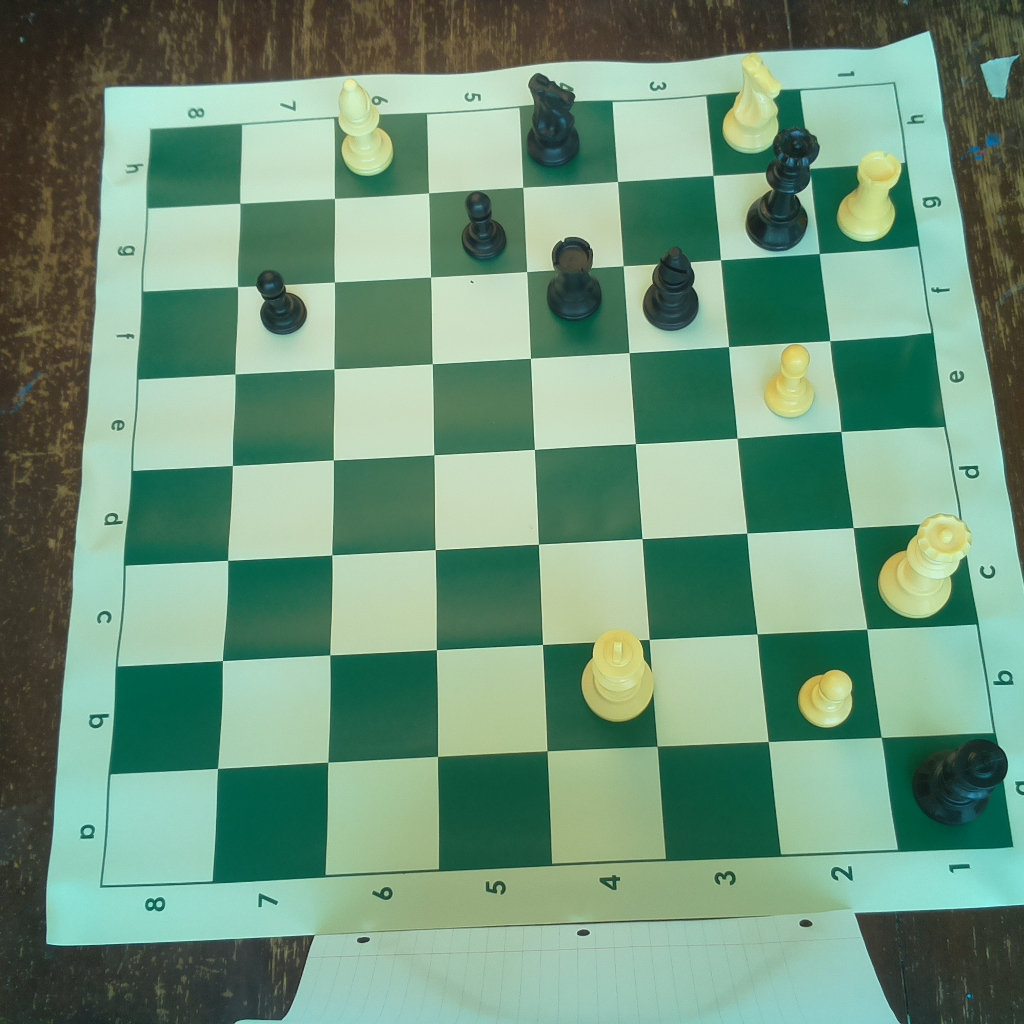black_bishop: (640, 244, 707, 334)
black_king: (911, 735, 1010, 826)
black_knight: (519, 70, 588, 170)
black_pawn: (457, 187, 514, 262), (254, 265, 314, 336)
black_queen: (744, 127, 824, 254)
black_rook: (544, 226, 611, 325)
file_a: (99, 734, 1014, 887)
file_b: (110, 623, 997, 779)
file_c: (114, 525, 979, 669)
file_d: (124, 427, 966, 564)
file_e: (134, 335, 944, 470)
file_f: (138, 245, 931, 380)
file_g: (138, 162, 918, 291)
file_h: (145, 82, 906, 209)
outline: (101, 79, 1015, 888)
rank_1: (801, 82, 1015, 853)
rank_2: (707, 90, 898, 854)
rank_3: (614, 97, 780, 860)
rank_4: (520, 101, 667, 861)
rank_5: (427, 105, 555, 873)
rank_6: (323, 114, 444, 874)
rank_7: (211, 118, 336, 882)
rank_8: (102, 125, 242, 886)
white_bishop: (331, 78, 398, 178)
white_king: (579, 625, 658, 730)
white_knight: (718, 51, 783, 156)
white_pawn: (762, 340, 821, 418), (794, 660, 859, 728)
white_queen: (873, 506, 973, 623)
white_rook: (827, 144, 907, 243)
